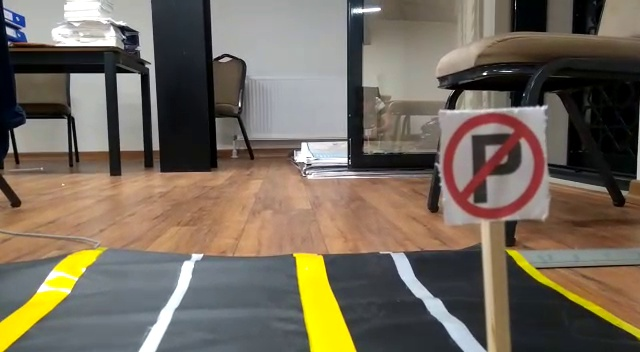park_yapilmaz: (437, 106, 554, 222)
